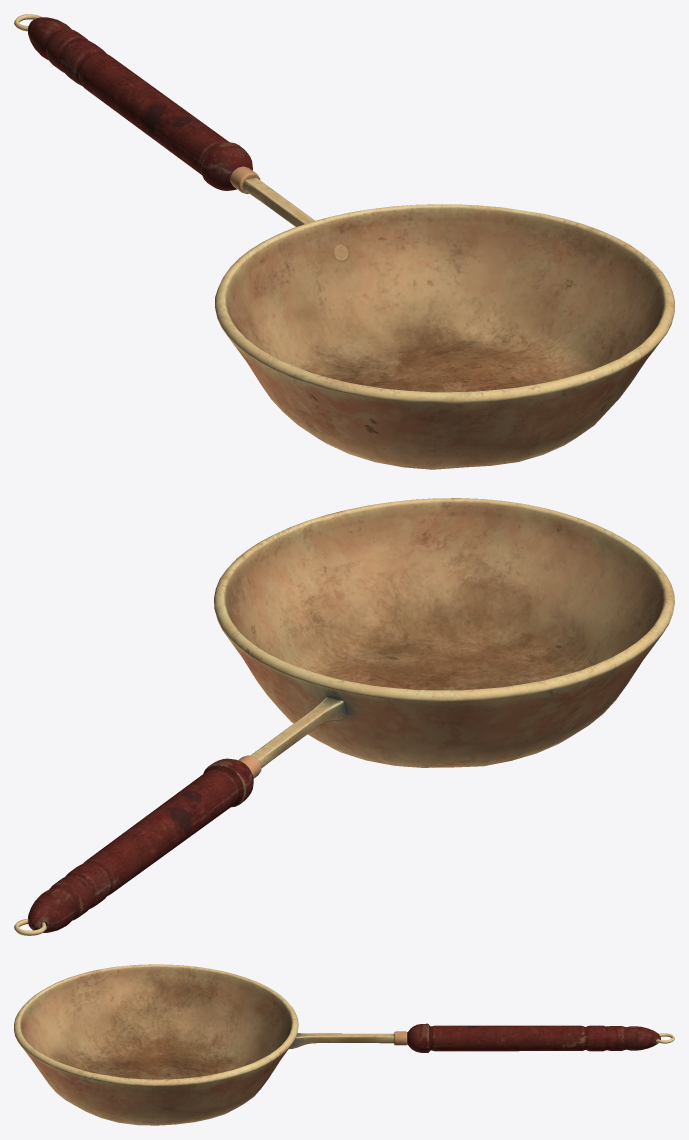
File: brass_pan_01.glb
The picture shows the model from 3 angles, top to bottom: view 1: azimuth 30°, elevation 25°; view 2: azimuth 150°, elevation 25°; view 3: azimuth 270°, elevation 25°; orthographic projection. The views are drawn at different scales.
Visible parts, largest first — view 1: brass_pan_01; view 2: brass_pan_01; view 3: brass_pan_01.
Boxes of the visible parts, box(x1,y1,x2,y2) form: brass_pan_01: box(14, 14, 674, 469); brass_pan_01: box(14, 498, 674, 935); brass_pan_01: box(14, 964, 674, 1125).
Size of the model in its own units: 0.1913 by 0.0525 by 0.4497.
1 material, 1 textured.
